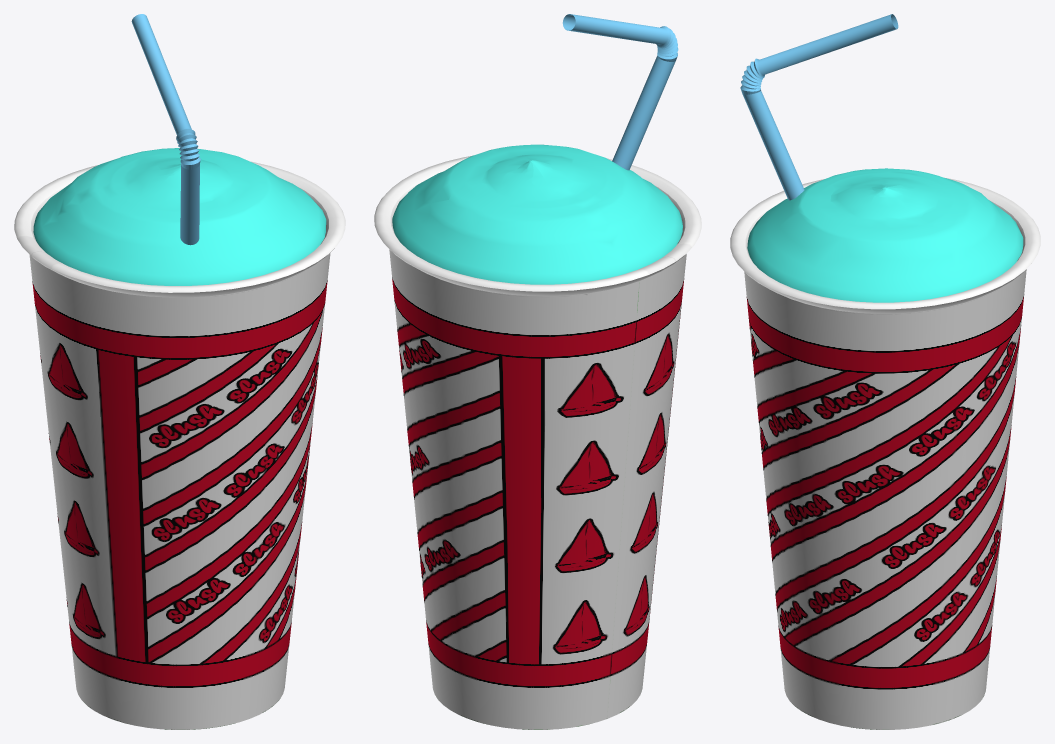
The model's file is 슬러쉬 0.fbx.
The picture shows the model from 3 angles, left to right: view 1: azimuth 30°, elevation 25°; view 2: azimuth 150°, elevation 25°; view 3: azimuth 270°, elevation 25°; orthographic projection. The views are drawn at different scales.
Parts seen in each view (by area): view 1: Cylinder002, Cylinder003, Cylinder004; view 2: Cylinder002, Cylinder003, Cylinder004; view 3: Cylinder002, Cylinder003, Cylinder004.
Part boxes in pixels (left/top/right/bottom): Cylinder002: left=14, top=161, right=345, bottom=729; Cylinder003: left=33, top=148, right=326, bottom=285; Cylinder004: left=131, top=14, right=200, bottom=245; Cylinder002: left=374, top=156, right=701, bottom=729; Cylinder003: left=392, top=144, right=682, bottom=284; Cylinder004: left=562, top=14, right=678, bottom=170; Cylinder002: left=730, top=177, right=1040, bottom=729; Cylinder003: left=747, top=168, right=1023, bottom=302; Cylinder004: left=740, top=14, right=898, bottom=200.
Size of the model in its own units: 7.89 by 17.87 by 7.67.
Materials: 3 (1 with a texture image).
